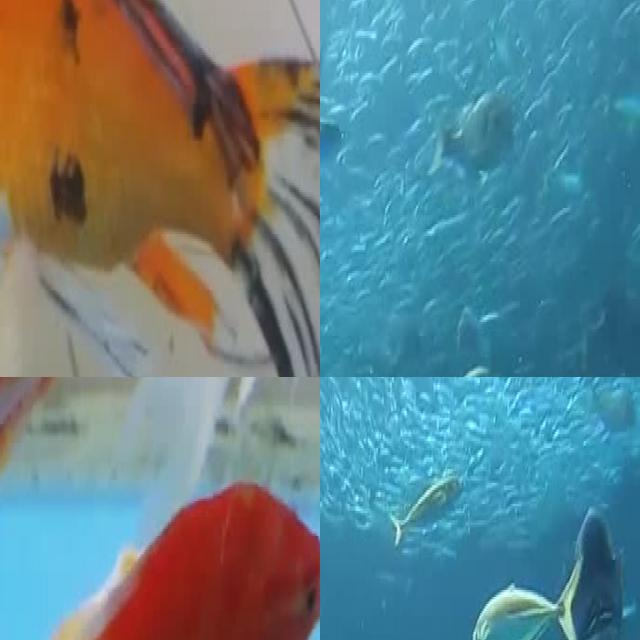fish: (0, 0, 320, 377), (0, 445, 320, 640)
